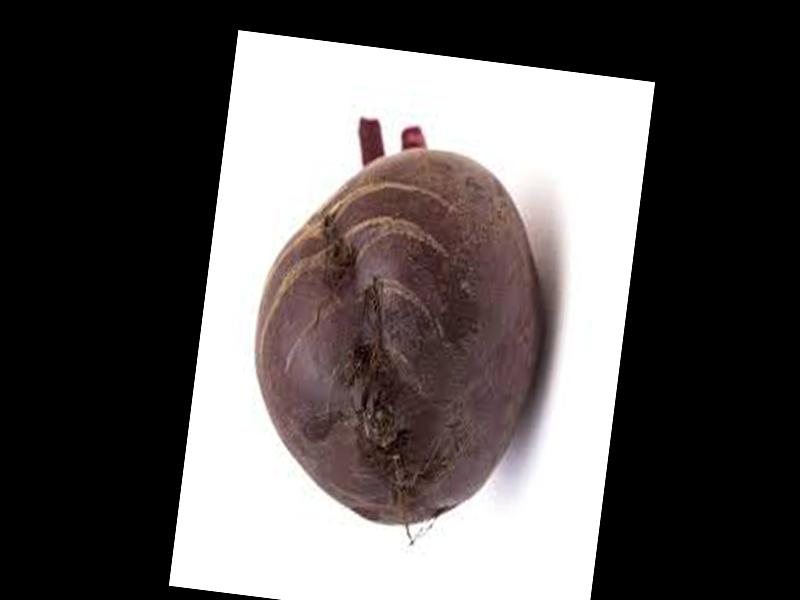Beet: (231, 111, 570, 542)
